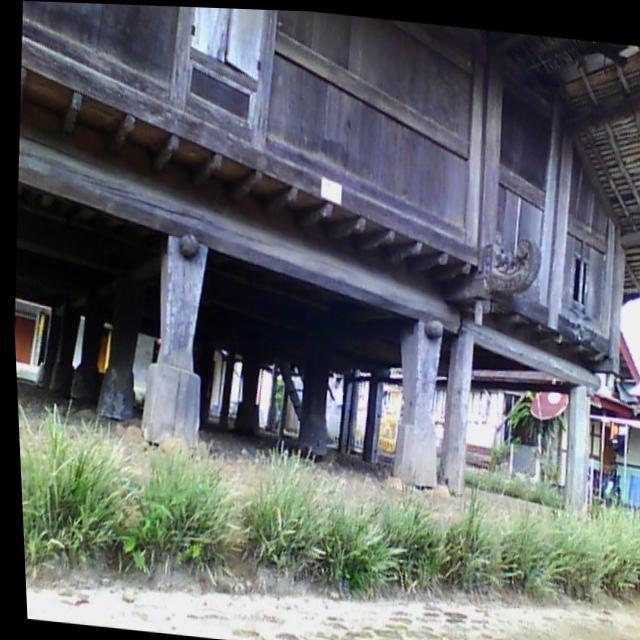Ornamen: (482, 238, 540, 291)
